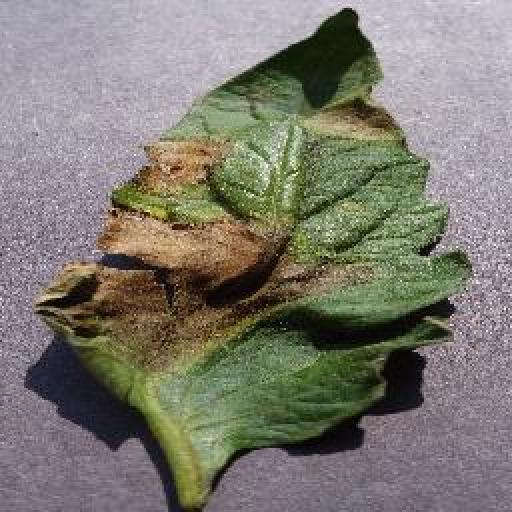disease_tomato: (28, 8, 477, 445)
